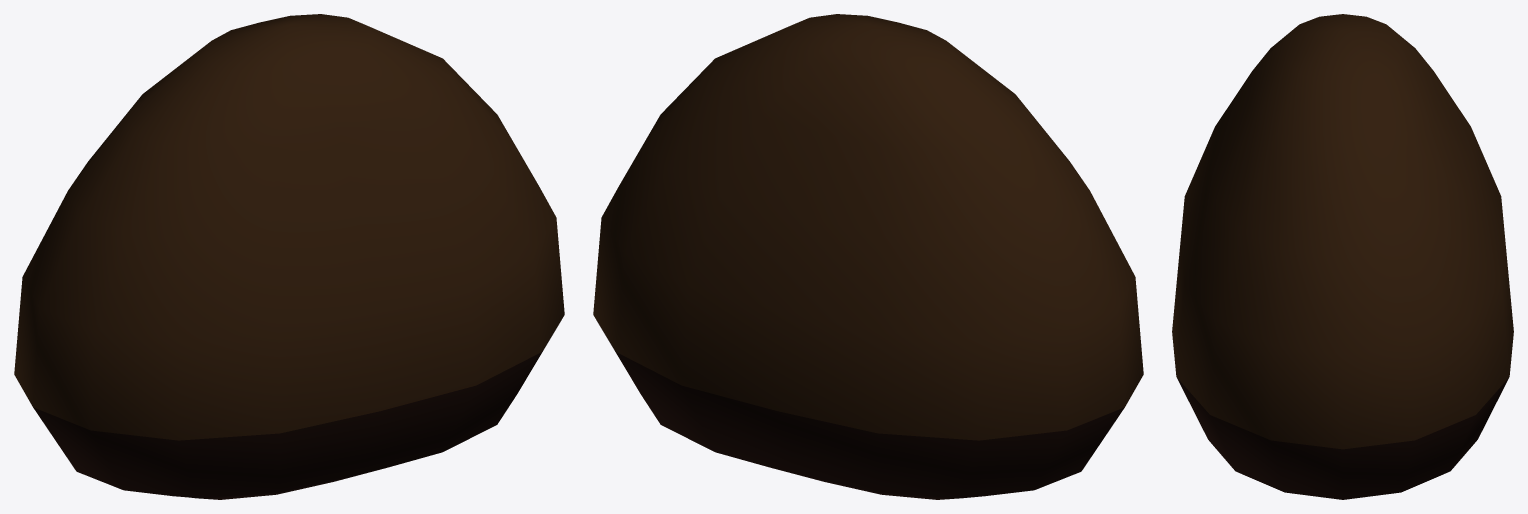
File: Chestnut.fbx
The picture shows the model from 3 angles, left to right: view 1: azimuth 30°, elevation 25°; view 2: azimuth 150°, elevation 25°; view 3: azimuth 270°, elevation 25°; orthographic projection. The views are drawn at different scales.
Parts seen in each view (by area): view 1: Chestnut; view 2: Chestnut; view 3: Chestnut.
Part boxes in pixels (box(x1,y1,x2,y2)): Chestnut: box(14, 14, 564, 499); Chestnut: box(593, 14, 1143, 499); Chestnut: box(1172, 14, 1513, 499).
Size of the model in its own units: 38.9 by 23.88 by 31.59.
